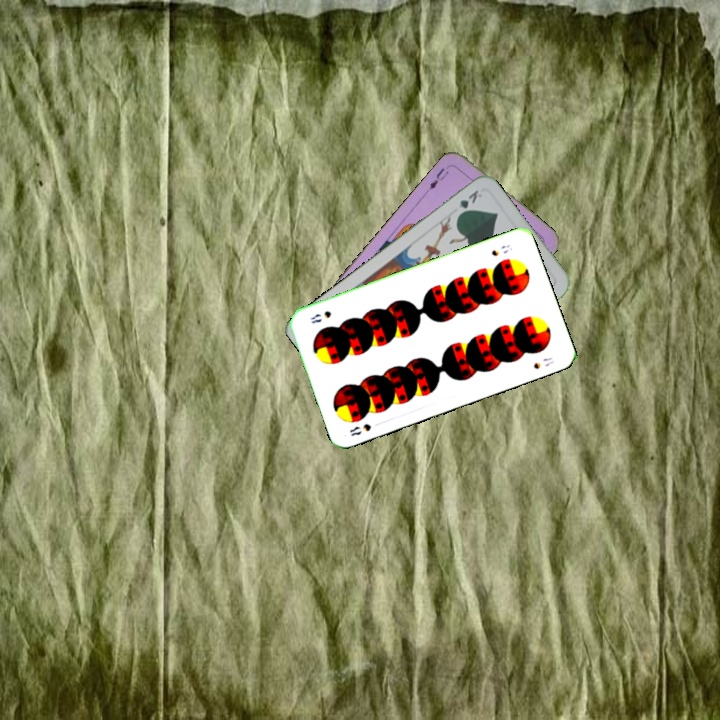EU: (425, 163, 451, 192)
GK: (453, 186, 485, 219)
S8: (345, 419, 374, 439), (487, 241, 515, 259)
